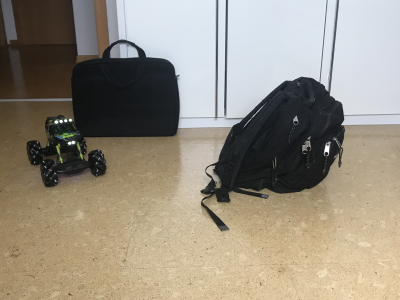remote control car: (24, 112, 107, 189)
